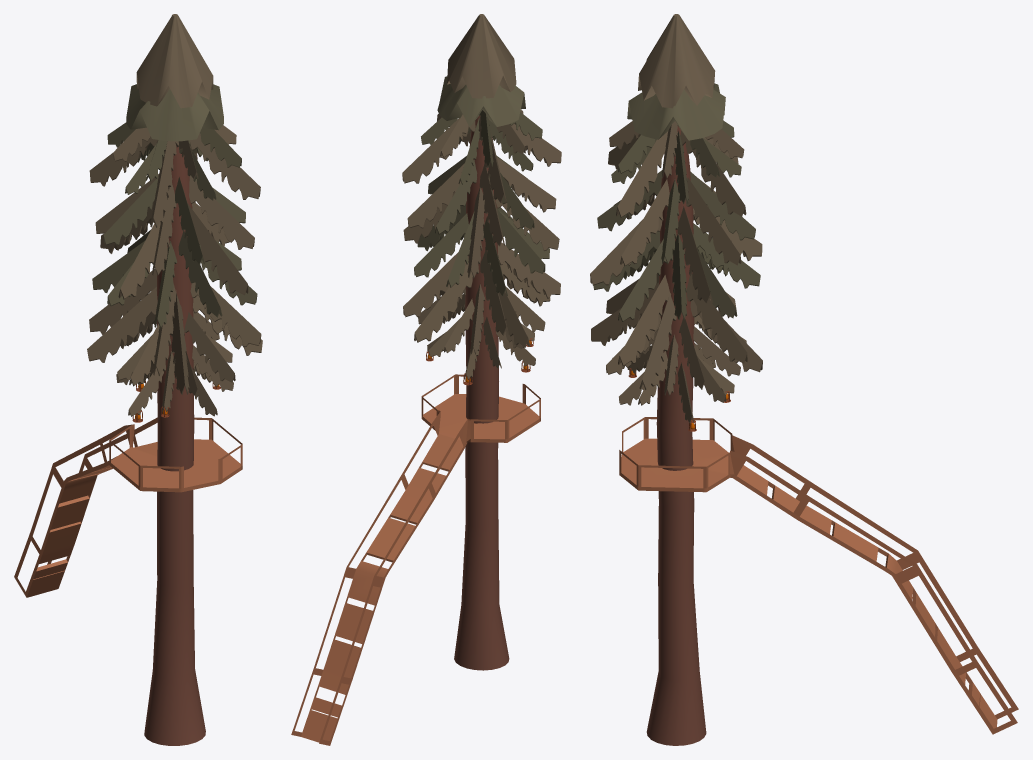
File: Tree_And_Bridge_Broken.fbx
The picture shows the model from 3 angles, left to right: view 1: azimuth 30°, elevation 25°; view 2: azimuth 150°, elevation 25°; view 3: azimuth 270°, elevation 25°; orthographic projection. The views are drawn at different scales.
Visible parts, largest first — view 1: trunk, pCube5 (×13), pCube4 (×12), pCylinder8, pCube3 (×8), pCylinder6, pCylinder5, pCube6 (×2); view 2: pCylinder8, trunk, pCube6 (×13), pCube4 (×9), pCube5 (×5), pCylinder6, pCylinder5, pCube3 (×3); view 3: pCylinder8, trunk, pCube3 (×9), pCube6 (×7), pCylinder6, pCube5 (×4), pCylinder5.
Part boxes in pixels (left/top/right/bottom): trunk: left=144, top=145, right=205, bottom=745; pCube5 (×13): left=128, top=127, right=257, bottom=416; pCube4 (×12): left=87, top=127, right=177, bottom=386; pCylinder8: left=14, top=417, right=242, bottom=597; pCube3 (×8): left=189, top=133, right=262, bottom=416; pCylinder6: left=136, top=14, right=213, bottom=108; pCylinder5: left=126, top=84, right=223, bottom=141; pCube6 (×2): left=92, top=201, right=154, bottom=292; pCylinder8: left=291, top=374, right=540, bottom=745; trunk: left=454, top=115, right=509, bottom=670; pCube6 (×13): left=402, top=110, right=507, bottom=354; pCube4 (×9): left=478, top=116, right=559, bottom=347; pCube5 (×5): left=496, top=123, right=561, bottom=366; pCylinder6: left=447, top=14, right=516, bottom=98; pCylinder5: left=437, top=76, right=525, bottom=127; pCube3 (×3): left=403, top=192, right=468, bottom=277; pCylinder8: left=619, top=417, right=1018, bottom=734; trunk: left=646, top=126, right=706, bottom=745; pCube3 (×9): left=616, top=131, right=737, bottom=389; pCube6 (×7): left=680, top=131, right=762, bottom=376; pCylinder6: left=638, top=14, right=715, bottom=108; pCube5 (×4): left=590, top=170, right=666, bottom=345; pCylinder5: left=627, top=83, right=725, bottom=140.
Size of the model in its own units: 7.87 by 38.17 by 20.68.
